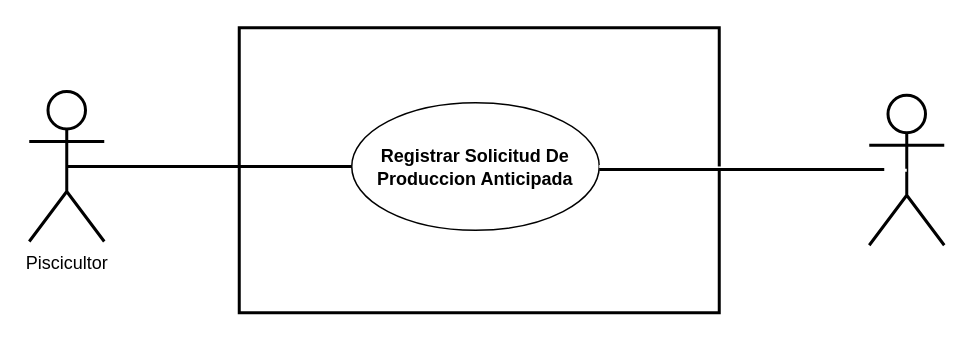
Image size: 978x339. Some labels were removed from this diagram. Each missing label, with the box of its shape:
Comprador: (867, 93, 945, 246)
Sistema de Gestión de una Piscícola: (237, 26, 720, 314)
